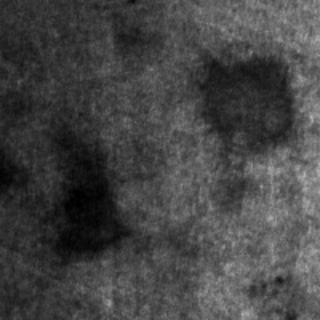patches: (182, 36, 306, 152), (48, 127, 128, 261)
